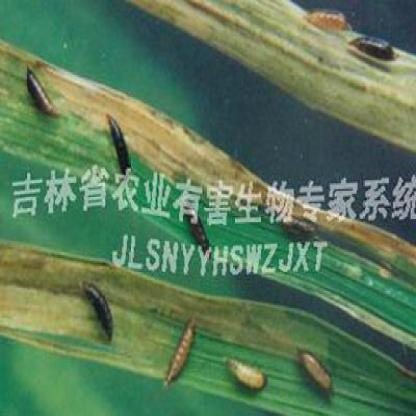whorl-maggot: (160, 304, 202, 388), (295, 330, 336, 404), (220, 342, 273, 398), (81, 278, 117, 352), (20, 61, 59, 126), (344, 25, 400, 69), (102, 112, 140, 164), (301, 2, 352, 33)
